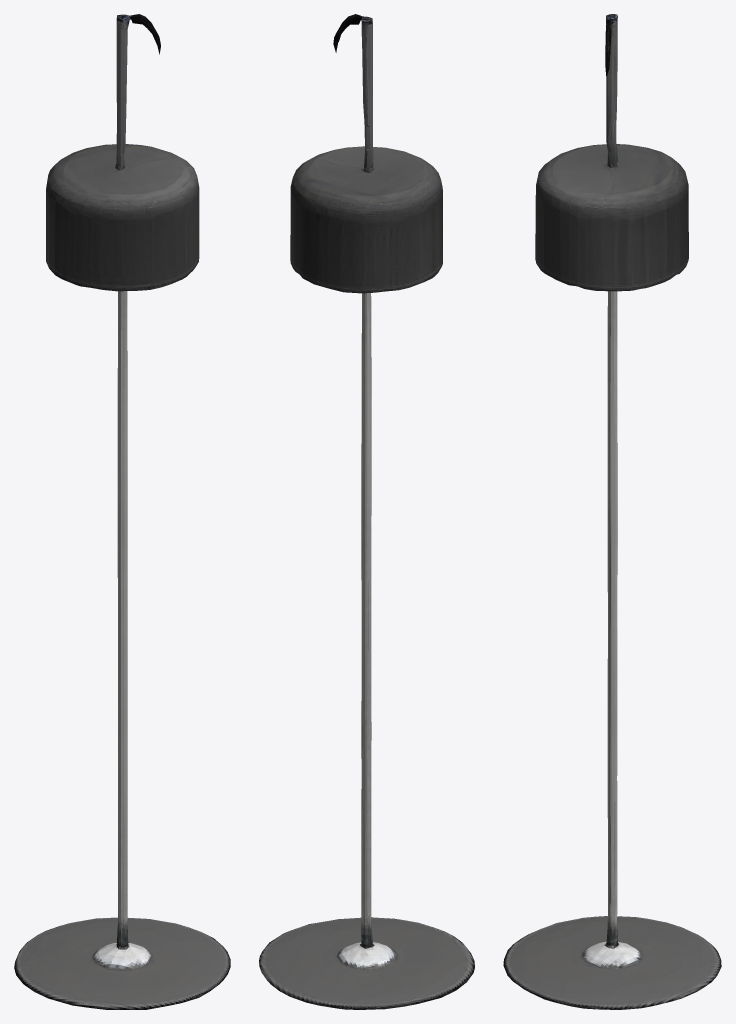
The model's file is COUPE_FLOOR_LAMP___Black___off.glb.
3 views of the same model, side by side, from view 1: azimuth 30°, elevation 25°; view 2: azimuth 150°, elevation 25°; view 3: azimuth 270°, elevation 25° (orthographic).
Visible parts, largest first — view 1: world; view 2: world; view 3: world.
Part boxes in pixels (x1,y1,x2,y2): world: (14, 14, 230, 1009); world: (259, 14, 474, 1009); world: (503, 14, 721, 1009).
Bounding box in the file's own units: 0.2081 × 0.9984 × 0.2078.
1 material, 1 textured.
